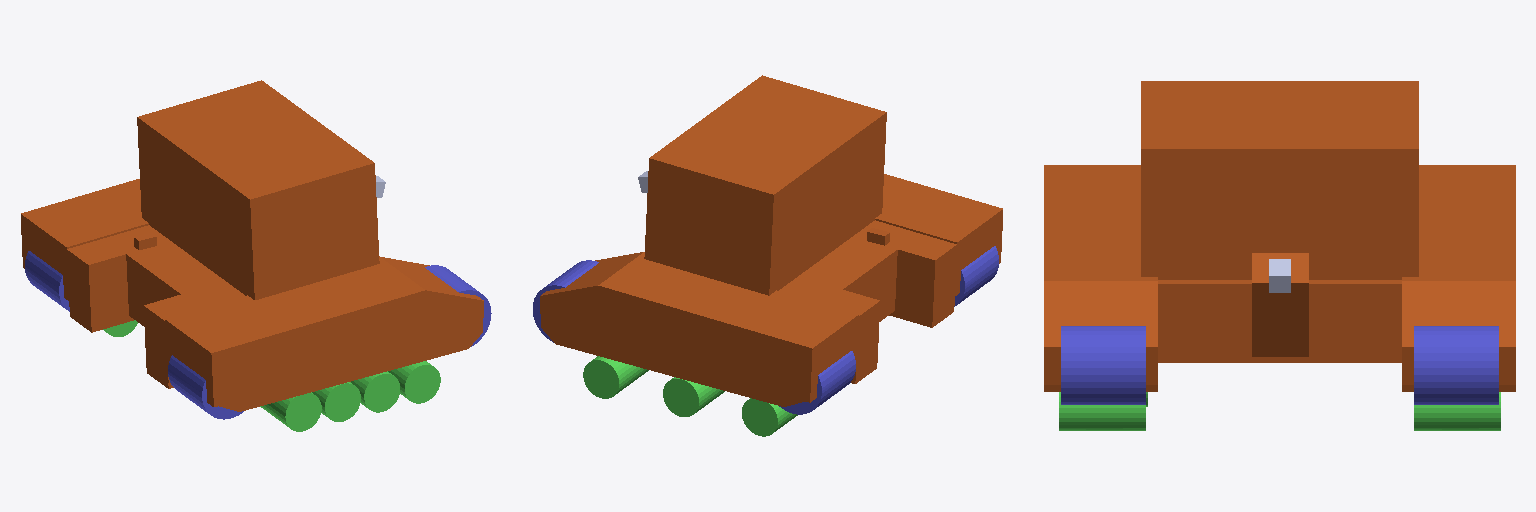
The robot description file, URDF, robot "tankbot":
<?xml version="1.0" encoding="utf-8"?>
<!-- This URDF was automatically created by SolidWorks to URDF Exporter! Originally created by [author] ([email redacted]) 
     Commit Version:   Build Version: 1.6.9478.39397
     For more information, please see http://wiki.ros.org/sw_urdf_exporter -->
<robot
  name="tankbot">
  <!-- Base footprint frame at ground level -->
  <link
    name="base_footprint">
  </link>
  
  <!-- Fixed joint from base_footprint to base_link -->
  <!-- Adjust z value to move base_link down to ground level -->
  <!-- If chassis height is 0.5m, set z to approximately 0.25m (half height) or full height if origin is at top -->
  <joint
    name="base_footprint_joint"
    type="fixed">
    <origin
      xyz="0 0 0.5"
      rpy="0 0 0" />
    <parent
      link="base_footprint" />
    <child
      link="base_link" />
  </joint>
  
  <link
    name="base_link">
    <inertial>
      <origin
        xyz="0.00890886340632199 -2.12108746995961E-05 -0.249771762086449"
        rpy="0 0 0" />
      <mass
        value="102.457212071935" />
      <inertia
        ixx="5.96593791507147"
        ixy="-0.000168989927706109"
        ixz="-0.221596004916151"
        iyy="3.39204393062452"
        iyz="0.000300406798158666"
        izz="6.96204879141497" />
    </inertial>
    <visual>
      <origin
        xyz="0 0 0"
        rpy="0 0 0" />
      <geometry>
        <mesh
          filename="package://tankbot/meshes/base_link.STL" />
      </geometry>
      <material
        name="">
        <color
          rgba="0.76078431372549 0.4 0.180392156862745 0.3" />
      </material>
    </visual>
    <collision>
      <origin
        xyz="0 0 0"
        rpy="0 0 0" />
      <geometry>
        <mesh
          filename="package://tankbot/meshes/base_link.STL" />
      </geometry>
    </collision>
  </link>
  <link
    name="l_l1">
    <inertial>
      <origin
        xyz="4.996E-16 -0.0719 2.7756E-17"
        rpy="0 0 0" />
      <mass
        value="2.1385" />
      <inertia
        ixx="0.0062157"
        ixy="1.2139E-17"
        ixz="-2.0788E-18"
        iyy="0.0050614"
        iyz="2.0255E-18"
        izz="0.0062157" />
    </inertial>
    <visual>
      <origin
        xyz="0 0 0"
        rpy="0 0 0" />
      <geometry>
        <mesh
          filename="package://tankbot/meshes/l_l1.STL" />
      </geometry>
      <material
        name="">
        <color
          rgba="0.38824 0.4 0.85882 0.3" />
      </material>
    </visual>
    <collision>
      <origin
        xyz="0 0 0"
        rpy="0 0 0" />
      <geometry>
        <mesh
          filename="package://tankbot/meshes/l_l1.STL" />
      </geometry>
    </collision>
  </link>
  <joint
    name="j_l1"
    type="continuous">
    <origin
      xyz="0.31373 0.3723 -0.33393"
      rpy="0 0 0" />
    <parent
      link="base_link" />
    <child
      link="l_l1" />
    <axis
      xyz="0 1 0" />
  </joint>
  <link
    name="l_l2">
    <inertial>
      <origin
        xyz="-5.5511E-17 -0.0739 1.3878E-17"
        rpy="0 0 0" />
      <mass
        value="0.89909" />
      <inertia
        ixx="0.0020719"
        ixy="-4.7629E-19"
        ixz="8.3461E-21"
        iyy="0.00087046"
        iyz="2.4619E-19"
        izz="0.0020719" />
    </inertial>
    <visual>
      <origin
        xyz="0 0 0"
        rpy="0 0 0" />
      <geometry>
        <mesh
          filename="package://tankbot/meshes/l_l2.STL" />
      </geometry>
      <material
        name="">
        <color
          rgba="0.38824 0.85882 0.38824 0.3" />
      </material>
    </visual>
    <collision>
      <origin
        xyz="0 0 0"
        rpy="0 0 0" />
      <geometry>
        <mesh
          filename="package://tankbot/meshes/l_l2.STL" />
      </geometry>
    </collision>
  </link>
  <joint
    name="j_l2"
    type="continuous">
    <origin
      xyz="0.21333 0.3763 -0.45648"
      rpy="0 0 0" />
    <parent
      link="base_link" />
    <child
      link="l_l2" />
    <axis
      xyz="0 1 0" />
  </joint>
  <link
    name="l_l3">
    <inertial>
      <origin
        xyz="-2.7756E-17 -0.0739 2.7756E-17"
        rpy="0 0 0" />
      <mass
        value="0.89909" />
      <inertia
        ixx="0.0020719"
        ixy="-3.3003E-19"
        ixz="-8.3461E-21"
        iyy="0.00087046"
        iyz="2.5891E-19"
        izz="0.0020719" />
    </inertial>
    <visual>
      <origin
        xyz="0 0 0"
        rpy="0 0 0" />
      <geometry>
        <mesh
          filename="package://tankbot/meshes/l_l3.STL" />
      </geometry>
      <material
        name="">
        <color
          rgba="0.38824 0.85882 0.38824 0.3" />
      </material>
    </visual>
    <collision>
      <origin
        xyz="0 0 0"
        rpy="0 0 0" />
      <geometry>
        <mesh
          filename="package://tankbot/meshes/l_l3.STL" />
      </geometry>
    </collision>
  </link>
  <joint
    name="j_l3"
    type="continuous">
    <origin
      xyz="0.11783 0.3723 -0.45648"
      rpy="0 0 0" />
    <parent
      link="base_link" />
    <child
      link="l_l3" />
    <axis
      xyz="0 1 0" />
  </joint>
  <link
    name="l_l4">
    <inertial>
      <origin
        xyz="-1.3878E-17 -0.0739 1.3878E-17"
        rpy="0 0 0" />
      <mass
        value="0.89909" />
      <inertia
        ixx="0.0020719"
        ixy="-3.197E-19"
        ixz="8.3461E-21"
        iyy="0.00087046"
        iyz="2.6924E-19"
        izz="0.0020719" />
    </inertial>
    <visual>
      <origin
        xyz="0 0 0"
        rpy="0 0 0" />
      <geometry>
        <mesh
          filename="package://tankbot/meshes/l_l4.STL" />
      </geometry>
      <material
        name="">
        <color
          rgba="0.38824 0.85882 0.38824 0.3" />
      </material>
    </visual>
    <collision>
      <origin
        xyz="0 0 0"
        rpy="0 0 0" />
      <geometry>
        <mesh
          filename="package://tankbot/meshes/l_l4.STL" />
      </geometry>
    </collision>
  </link>
  <joint
    name="j_l4"
    type="continuous">
    <origin
      xyz="0.022322 0.3723 -0.45648"
      rpy="0 0 0" />
    <parent
      link="base_link" />
    <child
      link="l_l4" />
    <axis
      xyz="0 1 0" />
  </joint>
  <link
    name="l_l5">
    <inertial>
      <origin
        xyz="-2.7756E-17 -0.0739 1.3878E-17"
        rpy="0 0 0" />
      <mass
        value="0.89909" />
      <inertia
        ixx="0.0020719"
        ixy="-3.3003E-19"
        ixz="-8.3461E-21"
        iyy="0.00087046"
        iyz="2.9229E-19"
        izz="0.0020719" />
    </inertial>
    <visual>
      <origin
        xyz="0 0 0"
        rpy="0 0 0" />
      <geometry>
        <mesh
          filename="package://tankbot/meshes/l_l5.STL" />
      </geometry>
      <material
        name="">
        <color
          rgba="0.38824 0.85882 0.38824 0.3" />
      </material>
    </visual>
    <collision>
      <origin
        xyz="0 0 0"
        rpy="0 0 0" />
      <geometry>
        <mesh
          filename="package://tankbot/meshes/l_l5.STL" />
      </geometry>
    </collision>
  </link>
  <joint
    name="j_l5"
    type="continuous">
    <origin
      xyz="-0.073182 0.3723 -0.45648"
      rpy="0 0 0" />
    <parent
      link="base_link" />
    <child
      link="l_l5" />
    <axis
      xyz="0 1 0" />
  </joint>
  <link
    name="l_l6">
    <inertial>
      <origin
        xyz="0 -0.0739 1.3878E-17"
        rpy="0 0 0" />
      <mass
        value="0.89909" />
      <inertia
        ixx="0.0020719"
        ixy="-5.6218E-20"
        ixz="7.5115E-20"
        iyy="0.00087046"
        iyz="2.3824E-19"
        izz="0.0020719" />
    </inertial>
    <visual>
      <origin
        xyz="0 0 0"
        rpy="0 0 0" />
      <geometry>
        <mesh
          filename="package://tankbot/meshes/l_l6.STL" />
      </geometry>
      <material
        name="">
        <color
          rgba="0.38824 0.85882 0.38824 0.3" />
      </material>
    </visual>
    <collision>
      <origin
        xyz="0 0 0"
        rpy="0 0 0" />
      <geometry>
        <mesh
          filename="package://tankbot/meshes/l_l6.STL" />
      </geometry>
    </collision>
  </link>
  <joint
    name="j_l6"
    type="continuous">
    <origin
      xyz="-0.16868 0.3723 -0.45648"
      rpy="0 0 0" />
    <parent
      link="base_link" />
    <child
      link="l_l6" />
    <axis
      xyz="0 1 0" />
  </joint>
  <link
    name="l_l7">
    <inertial>
      <origin
        xyz="4.4409E-16 -0.0719 3.8164E-17"
        rpy="0 0 0" />
      <mass
        value="2.1385" />
      <inertia
        ixx="0.0062157"
        ixy="1.2165E-17"
        ixz="-2.0788E-18"
        iyy="0.0050614"
        iyz="2.0255E-18"
        izz="0.0062157" />
    </inertial>
    <visual>
      <origin
        xyz="0 0 0"
        rpy="0 0 0" />
      <geometry>
        <mesh
          filename="package://tankbot/meshes/l_l7.STL" />
      </geometry>
      <material
        name="">
        <color
          rgba="0.38824 0.4 0.85882 0.3" />
      </material>
    </visual>
    <collision>
      <origin
        xyz="0 0 0"
        rpy="0 0 0" />
      <geometry>
        <mesh
          filename="package://tankbot/meshes/l_l7.STL" />
      </geometry>
    </collision>
  </link>
  <joint
    name="j_l7"
    type="continuous">
    <origin
      xyz="-0.25069 0.3723 -0.36114"
      rpy="0 0 0" />
    <parent
      link="base_link" />
    <child
      link="l_l7" />
    <axis
      xyz="0 1 0" />
  </joint>
  <link
    name="l_r1">
    <inertial>
      <origin
        xyz="5.5511E-16 0.0719 -2.7756E-17"
        rpy="0 0 0" />
      <mass
        value="2.1385" />
      <inertia
        ixx="0.0062157"
        ixy="-4.048E-18"
        ixz="-1.0394E-18"
        iyy="0.0050614"
        iyz="1.7325E-18"
        izz="0.0062157" />
    </inertial>
    <visual>
      <origin
        xyz="0 0 0"
        rpy="0 0 0" />
      <geometry>
        <mesh
          filename="package://tankbot/meshes/l_r1.STL" />
      </geometry>
      <material
        name="">
        <color
          rgba="0.38824 0.4 0.85882 0.3" />
      </material>
    </visual>
    <collision>
      <origin
        xyz="0 0 0"
        rpy="0 0 0" />
      <geometry>
        <mesh
          filename="package://tankbot/meshes/l_r1.STL" />
      </geometry>
    </collision>
  </link>
  <joint
    name="j_r1"
    type="continuous">
    <origin
      xyz="0.31373 -0.3723 -0.33393"
      rpy="0 0 0" />
    <parent
      link="base_link" />
    <child
      link="l_r1" />
    <axis
      xyz="0 1 0" />
  </joint>
  <link
    name="l_r2">
    <inertial>
      <origin
        xyz="0 0.0739 -1.3878E-17"
        rpy="0 0 0" />
      <mass
        value="0.89909" />
      <inertia
        ixx="0.0020719"
        ixy="-4.3052E-19"
        ixz="7.5115E-20"
        iyy="0.00087046"
        iyz="2.8969E-19"
        izz="0.0020719" />
    </inertial>
    <visual>
      <origin
        xyz="0 0 0"
        rpy="0 0 0" />
      <geometry>
        <mesh
          filename="package://tankbot/meshes/l_r2.STL" />
      </geometry>
      <material
        name="">
        <color
          rgba="0.38824 0.85882 0.38824 0.3" />
      </material>
    </visual>
    <collision>
      <origin
        xyz="0 0 0"
        rpy="0 0 0" />
      <geometry>
        <mesh
          filename="package://tankbot/meshes/l_r2.STL" />
      </geometry>
    </collision>
  </link>
  <joint
    name="j_r2"
    type="continuous">
    <origin
      xyz="0.21333 -0.3763 -0.45648"
      rpy="0 0 0" />
    <parent
      link="base_link" />
    <child
      link="l_r2" />
    <axis
      xyz="0 1 0" />
  </joint>
  <link
    name="l_r3">
    <inertial>
      <origin
        xyz="0 0.0739 -1.3878E-17"
        rpy="0 0 0" />
      <mass
        value="0.89909" />
      <inertia
        ixx="0.0020719"
        ixy="-2.8427E-19"
        ixz="-8.3461E-21"
        iyy="0.00087046"
        iyz="3.3579E-19"
        izz="0.0020719" />
    </inertial>
    <visual>
      <origin
        xyz="0 0 0"
        rpy="0 0 0" />
      <geometry>
        <mesh
          filename="package://tankbot/meshes/l_r3.STL" />
      </geometry>
      <material
        name="">
        <color
          rgba="0.38824 0.85882 0.38824 0.3" />
      </material>
    </visual>
    <collision>
      <origin
        xyz="0 0 0"
        rpy="0 0 0" />
      <geometry>
        <mesh
          filename="package://tankbot/meshes/l_r3.STL" />
      </geometry>
    </collision>
  </link>
  <joint
    name="j_r3"
    type="continuous">
    <origin
      xyz="0.11783 -0.3723 -0.45648"
      rpy="0 0 0" />
    <parent
      link="base_link" />
    <child
      link="l_r3" />
    <axis
      xyz="0 1 0" />
  </joint>
  <link
    name="l_r4">
    <inertial>
      <origin
        xyz="2.0817E-17 0.0739 -1.3878E-17"
        rpy="0 0 0" />
      <mass
        value="0.89909" />
      <inertia
        ixx="0.0020719"
        ixy="-3.0732E-19"
        ixz="7.5115E-20"
        iyy="0.00087046"
        iyz="3.1274E-19"
        izz="0.0020719" />
    </inertial>
    <visual>
      <origin
        xyz="0 0 0"
        rpy="0 0 0" />
      <geometry>
        <mesh
          filename="package://tankbot/meshes/l_r4.STL" />
      </geometry>
      <material
        name="">
        <color
          rgba="0.38824 0.85882 0.38824 0.3" />
      </material>
    </visual>
    <collision>
      <origin
        xyz="0 0 0"
        rpy="0 0 0" />
      <geometry>
        <mesh
          filename="package://tankbot/meshes/l_r4.STL" />
      </geometry>
    </collision>
  </link>
  <joint
    name="j_r4"
    type="continuous">
    <origin
      xyz="0.022322 -0.3723 -0.45648"
      rpy="0 0 0" />
    <parent
      link="base_link" />
    <child
      link="l_r4" />
    <axis
      xyz="0 1 0" />
  </joint>
  <link
    name="l_r5">
    <inertial>
      <origin
        xyz="0 0.0739 -1.3878E-17"
        rpy="0 0 0" />
      <mass
        value="0.89909" />
      <inertia
        ixx="0.0020719"
        ixy="-2.9024E-19"
        ixz="-8.3461E-21"
        iyy="0.00087046"
        iyz="3.3579E-19"
        izz="0.0020719" />
    </inertial>
    <visual>
      <origin
        xyz="0 0 0"
        rpy="0 0 0" />
      <geometry>
        <mesh
          filename="package://tankbot/meshes/l_r5.STL" />
      </geometry>
      <material
        name="">
        <color
          rgba="0.38824 0.85882 0.38824 0.3" />
      </material>
    </visual>
    <collision>
      <origin
        xyz="0 0 0"
        rpy="0 0 0" />
      <geometry>
        <mesh
          filename="package://tankbot/meshes/l_r5.STL" />
      </geometry>
    </collision>
  </link>
  <joint
    name="j_r5"
    type="continuous">
    <origin
      xyz="-0.073182 -0.3723 -0.45648"
      rpy="0 0 0" />
    <parent
      link="base_link" />
    <child
      link="l_r5" />
    <axis
      xyz="0 1 0" />
  </joint>
  <link
    name="l_r6">
    <inertial>
      <origin
        xyz="0 0.0739 -1.3878E-17"
        rpy="0 0 0" />
      <mass
        value="0.89909" />
      <inertia
        ixx="0.0020719"
        ixy="-7.124E-20"
        ixz="1.085E-19"
        iyy="0.00087046"
        iyz="3.1513E-19"
        izz="0.0020719" />
    </inertial>
    <visual>
      <origin
        xyz="0 0 0"
        rpy="0 0 0" />
      <geometry>
        <mesh
          filename="package://tankbot/meshes/l_r6.STL" />
      </geometry>
      <material
        name="">
        <color
          rgba="0.38824 0.85882 0.38824 0.3" />
      </material>
    </visual>
    <collision>
      <origin
        xyz="0 0 0"
        rpy="0 0 0" />
      <geometry>
        <mesh
          filename="package://tankbot/meshes/l_r6.STL" />
      </geometry>
    </collision>
  </link>
  <joint
    name="j_r6"
    type="continuous">
    <origin
      xyz="-0.16868 -0.3723 -0.45648"
      rpy="0 0 0" />
    <parent
      link="base_link" />
    <child
      link="l_r6" />
    <axis
      xyz="0 1 0" />
  </joint>
  <link
    name="l_r7">
    <inertial>
      <origin
        xyz="4.996E-16 0.0719 -1.7347E-17"
        rpy="0 0 0" />
      <mass
        value="2.1385" />
      <inertia
        ixx="0.0062157"
        ixy="-4.048E-18"
        ixz="-1.0394E-18"
        iyy="0.0050614"
        iyz="1.4727E-18"
        izz="0.0062157" />
    </inertial>
    <visual>
      <origin
        xyz="0 0 0"
        rpy="0 0 0" />
      <geometry>
        <mesh
          filename="package://tankbot/meshes/l_r7.STL" />
      </geometry>
      <material
        name="">
        <color
          rgba="0.38824 0.4 0.85882 0.3" />
      </material>
    </visual>
    <collision>
      <origin
        xyz="0 0 0"
        rpy="0 0 0" />
      <geometry>
        <mesh
          filename="package://tankbot/meshes/l_r7.STL" />
      </geometry>
    </collision>
  </link>
  <joint
    name="j_r7"
    type="continuous">
    <origin
      xyz="-0.25069 -0.3723 -0.36114"
      rpy="0 0 0" />
    <parent
      link="base_link" />
    <child
      link="l_r7" />
    <axis
      xyz="0 1 0" />
  </joint>
  <link
    name="l_FL2">
    <inertial>
      <origin
        xyz="8.2345E-05 9.7401E-16 -0.56913"
        rpy="0 0 0" />
      <mass
        value="0.058407" />
      <inertia
        ixx="1.5913E-05"
        ixy="-9.1307E-21"
        ixz="-8.7184E-07"
        iyy="1.6147E-05"
        iyz="4.2082E-21"
        izz="1.2893E-05" />
    </inertial>
    <visual>
      <origin
        xyz="0 0 0"
        rpy="0 0 0" />
      <geometry>
        <mesh
          filename="package://tankbot/meshes/l_FL2.STL" />
      </geometry>
      <material
        name="">
        <color
          rgba="0.79216 0.81961 0.93333 1" />
      </material>
    </visual>
    <collision>
      <origin
        xyz="0 0 0"
        rpy="0 0 0" />
      <geometry>
        <mesh
          filename="package://tankbot/meshes/l_FL2.STL" />
      </geometry>
    </collision>
  </link>
  <joint
    name="j_FL2"
    type="fixed">
    <origin
      xyz="-0.26408 0 -0.17156"
      rpy="0 -1.5708 0" />
    <parent
      link="base_link" />
    <child
      link="l_FL2" />
    <axis
      xyz="0 0 0" />
  </joint>
  <link
    name="l_BL2">
    <inertial>
      <origin
        xyz="0.0089089 -2.1211E-05 -0.24977"
        rpy="0 0 0" />
      <mass
        value="102.46" />
      <inertia
        ixx="5.9659"
        ixy="-0.00016899"
        ixz="-0.2216"
        iyy="3.392"
        iyz="0.00030041"
        izz="6.962" />
    </inertial>
    <visual>
      <origin
        xyz="0 0 0"
        rpy="0 0 0" />
      <geometry>
        <mesh
          filename="package://tankbot/meshes/l_BL2.STL" />
      </geometry>
      <material
        name="">
        <color
          rgba="0.76078 0.4 0.18039 0.3" />
      </material>
    </visual>
    <collision>
      <origin
        xyz="0 0 0"
        rpy="0 0 0" />
      <geometry>
        <mesh
          filename="package://tankbot/meshes/l_BL2.STL" />
      </geometry>
    </collision>
  </link>
  <joint
    name="j_BL2"
    type="fixed">
    <origin
      xyz="0.32674 0 -0.17729"
      rpy="-1.5708 -1.309 0" />
    <parent
      link="base_link" />
    <child
      link="l_BL2" />
    <axis
      xyz="0 0 0" />
  </joint>

  <!-- ============================================ -->
  <!-- SENSOR FRAMES                                -->
  <!-- ============================================ -->
  <!-- Note: Adjust xyz and rpy values based on your CAD measurements -->
  <!-- All positions are relative to base_link origin -->

  <!-- Front LiDAR (Unitree L2) -->
  <!-- Using l_FL2 position from SolidWorks export -->
  <link name="lidar_front">
    <inertial>
      <mass value="0.5" />
      <origin xyz="0 0 0" rpy="0 0 0" />
      <inertia ixx="0.001" ixy="0.0" ixz="0.0"
               iyy="0.001" iyz="0.0"
               izz="0.001" />
    </inertial>
  </link>
  <joint name="l_FL2_to_lidar_front" type="fixed">
    <parent link="l_FL2" />
    <child link="lidar_front" />
    <!-- LiDAR center is at l_FL2 origin (0,0,0 relative to l_FL2) -->
    <origin xyz="0 0 0" rpy="0 0 0" />
  </joint>

  <!-- Front LiDAR IMU (built-in 6-axis IMU on Unitree L2) -->
  <link name="lidar_front_imu">
    <inertial>
      <mass value="0.01" />
      <origin xyz="0 0 0" rpy="0 0 0" />
      <inertia ixx="0.00001" ixy="0.0" ixz="0.0"
               iyy="0.00001" iyz="0.0"
               izz="0.00001" />
    </inertial>
  </link>
  <joint name="lidar_front_to_imu" type="fixed">
    <parent link="lidar_front" />
    <child link="lidar_front_imu" />
    <!-- IMU is co-located with lidar (built-in), identity transform -->
    <origin xyz="0 0 0" rpy="0 0 0" />
  </joint>

  <!-- Rear LiDAR (Unitree L2) -->
  <!-- Using l_BL2 position from SolidWorks export -->
  <link name="lidar_rear">
    <inertial>
      <mass value="0.5" />
      <origin xyz="0 0 0" rpy="0 0 0" />
      <inertia ixx="0.001" ixy="0.0" ixz="0.0"
               iyy="0.001" iyz="0.0"
               izz="0.001" />
    </inertial>
  </link>
  <joint name="l_BL2_to_lidar_rear" type="fixed">
    <parent link="l_BL2" />
    <child link="lidar_rear" />
    <!-- LiDAR center is at l_BL2 origin (0,0,0 relative to l_BL2) -->
    <origin xyz="0 0 0" rpy="0 0 0" />
  </joint>

  <!-- Rear LiDAR IMU (built-in 6-axis IMU on Unitree L2) -->
  <link name="lidar_rear_imu">
    <inertial>
      <mass value="0.01" />
      <origin xyz="0 0 0" rpy="0 0 0" />
      <inertia ixx="0.00001" ixy="0.0" ixz="0.0"
               iyy="0.00001" iyz="0.0"
               izz="0.00001" />
    </inertial>
  </link>
  <joint name="lidar_rear_to_imu" type="fixed">
    <parent link="lidar_rear" />
    <child link="lidar_rear_imu" />
    <!-- IMU is co-located with lidar (built-in), identity transform -->
    <origin xyz="0 0 0" rpy="0 0 0" />
  </joint>

  <!-- GNSS Antenna (u-blox ZED-F9P) -->
  <link name="gnss">
    <inertial>
      <mass value="0.05" />
      <origin xyz="0 0 0" rpy="0 0 0" />
      <inertia ixx="0.00001" ixy="0.0" ixz="0.0"
               iyy="0.00001" iyz="0.0"
               izz="0.00001" />
    </inertial>
  </link>
  <joint name="base_to_gnss" type="fixed">
    <parent link="base_link" />
    <child link="gnss" />
    <!-- GNSS at same coordinate point as base_link -->
    <origin xyz="0 0 0" rpy="0 0 0" />
  </joint>

</robot>

--- Render facts (derived) ---
Views: 3 orthographic renders of the robot side by side, from view 1: azimuth 30°, elevation 25°; view 2: azimuth 150°, elevation 25°; view 3: azimuth 270°, elevation 25°.
Model tankbot with 23 links and 22 joints (14 continuous, 8 fixed), rooted at base_footprint, posed every joint at zero.
Visible links, largest first — view 1: base_link, l_r7, l_r5, l_r2, l_r3, l_r4, l_l7, l_r1; view 2: base_link, l_l2, l_l4, l_l7, l_l6, l_r7, l_l1; view 3: base_link, l_l1, l_r1, l_l2, l_r2, l_FL2.
Link boxes in pixels (x1,y1,x2,y2): base_link: (21, 80, 483, 411); l_r7: (168, 355, 243, 419); l_r5: (260, 392, 321, 431); l_r2: (388, 361, 440, 403); l_r3: (351, 371, 399, 412); l_r4: (312, 382, 360, 421); l_l7: (25, 251, 69, 311); l_r1: (425, 265, 491, 346); base_link: (540, 75, 1002, 406); l_l2: (583, 356, 648, 398); l_l4: (663, 377, 724, 416); l_l7: (779, 351, 855, 414); l_l6: (742, 398, 797, 436); l_r7: (954, 246, 998, 306); l_l1: (533, 260, 598, 342); base_link: (1044, 81, 1515, 391); l_l1: (1414, 326, 1498, 404); l_r1: (1061, 326, 1145, 404); l_l2: (1414, 392, 1500, 430); l_r2: (1059, 392, 1145, 430); l_FL2: (1269, 259, 1290, 292).
Size in the robot's own frame: 0.702 by 0.802 by 0.5089 metres.
14 mesh visuals loaded from 17 distinct referenced files (14 binary STL); not drawn: 3 (reference not matched to a file when rendering).